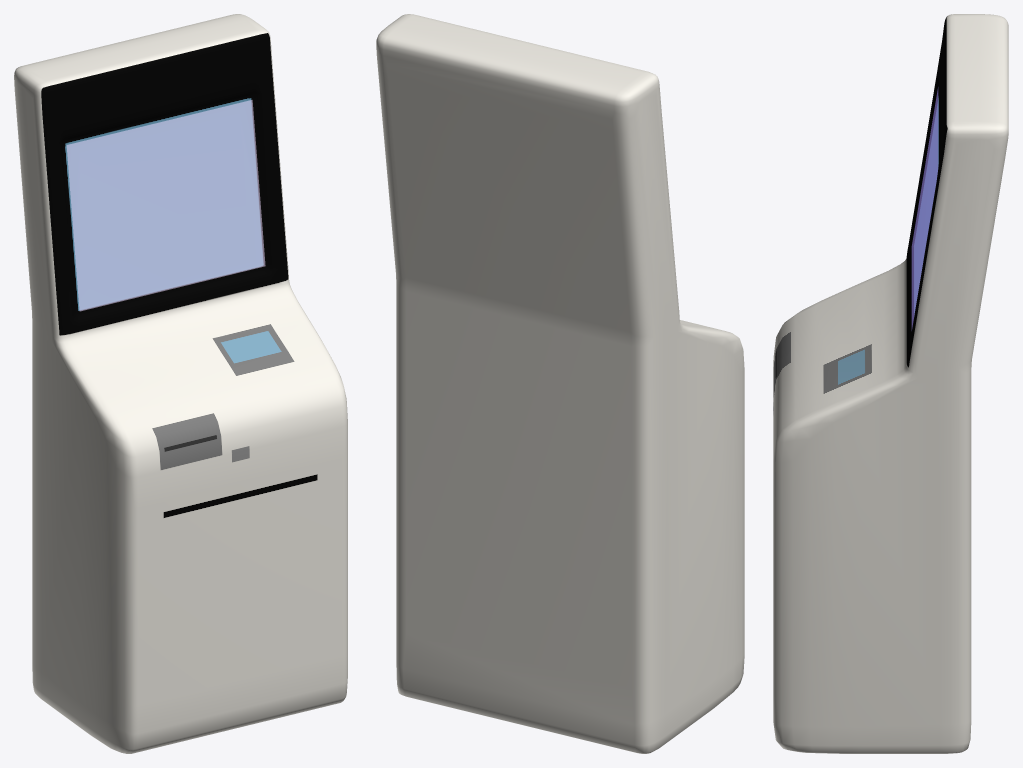
The model's file is check_in.glb.
The picture shows the model from 3 angles, left to right: view 1: azimuth 30°, elevation 25°; view 2: azimuth 150°, elevation 25°; view 3: azimuth 270°, elevation 25°; orthographic projection. The views are drawn at different scales.
Parts seen in each view (by area): view 1: Kiosk-col, Display-col; view 2: Kiosk-col; view 3: Kiosk-col, Display-col.
Part boxes in pixels (left/top/right/bottom): Kiosk-col: left=14, top=14, right=347, bottom=753; Display-col: left=66, top=100, right=265, bottom=311; Kiosk-col: left=376, top=14, right=744, bottom=753; Kiosk-col: left=773, top=14, right=1008, bottom=753; Display-col: left=911, top=87, right=938, bottom=330.
Bounding box in the file's own units: 0.6754 × 1.69 × 0.5733.
Materials: 2 (1 with a texture image).
